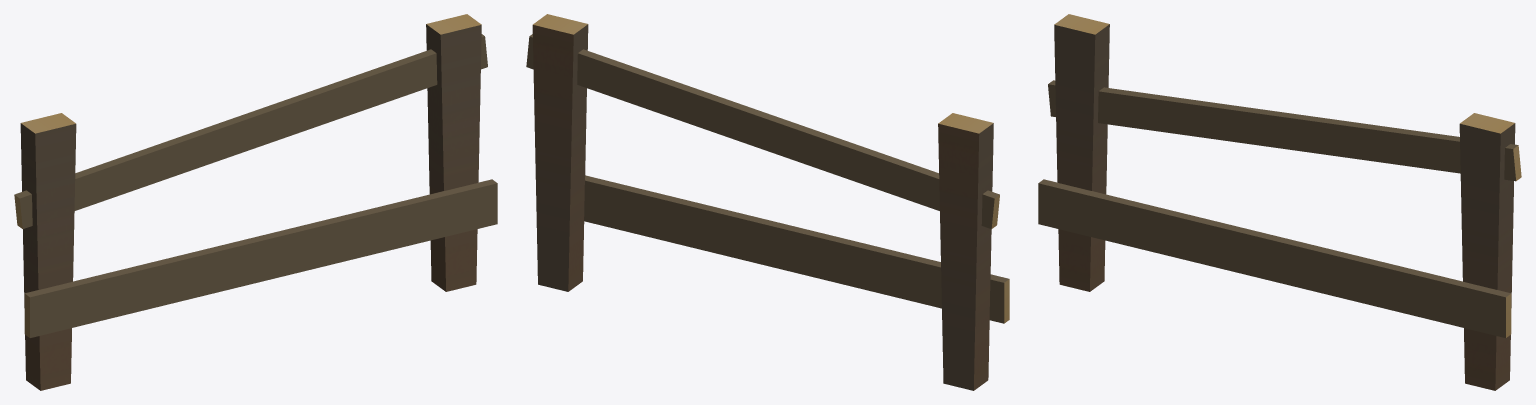
Rendered from Fence_1_LOD1.fbx.
3 renders of one model, left to right at view 1: azimuth 30°, elevation 25°; view 2: azimuth 150°, elevation 25°; view 3: azimuth 330°, elevation 25°, orthographic.
Parts seen in each view (by area): view 1: polySurface9742; view 2: polySurface9742; view 3: polySurface9742.
Part boxes in pixels (bbox=[...]): polySurface9742: bbox=[14, 14, 497, 390]; polySurface9742: bbox=[526, 14, 1009, 390]; polySurface9742: bbox=[1038, 14, 1521, 390].
Bounding box in the file's own units: 231 × 122 × 17.02.
